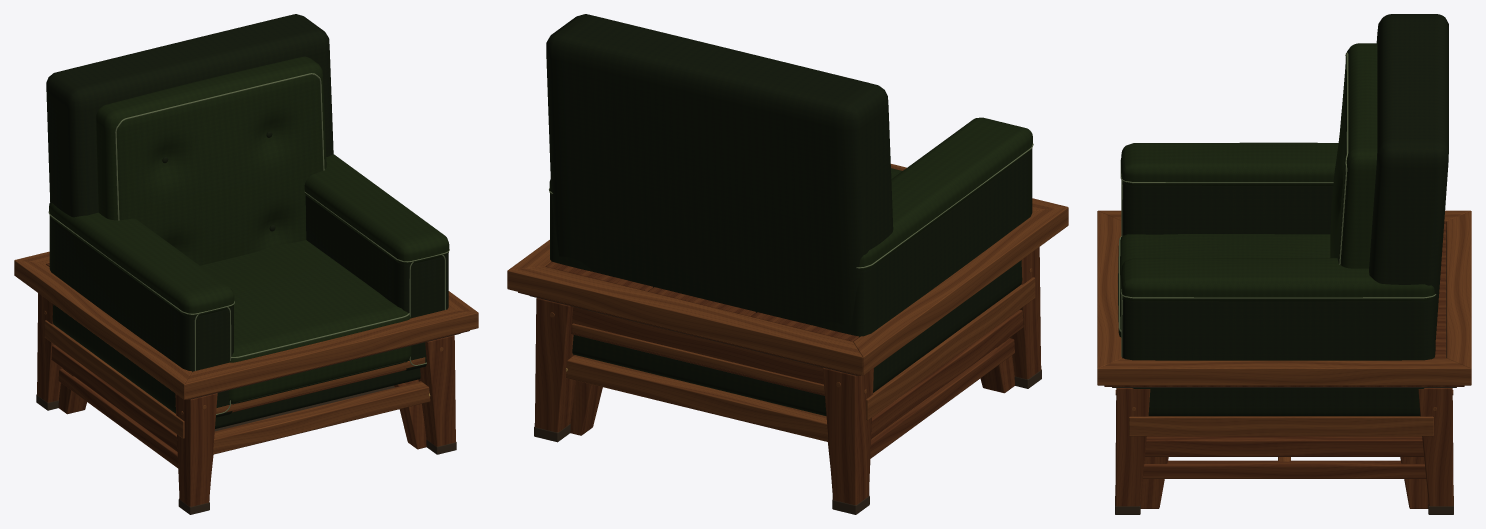
Rendered from mesa-poltrona.glb.
3 views of the same model, side by side, from view 1: azimuth 30°, elevation 25°; view 2: azimuth 150°, elevation 25°; view 3: azimuth 270°, elevation 25° (orthographic). The views are drawn at different scales.
Visible parts, largest first — view 1: Poltrona - marcenaria, Mesa - marcenaria; view 2: Poltrona - marcenaria, Mesa - marcenaria; view 3: Poltrona - marcenaria, Mesa - marcenaria.
Boxes of the visible parts, <box> form: Poltrona - marcenaria: <box>44,14,449,473</box>; Mesa - marcenaria: <box>14,251,478,514</box>; Poltrona - marcenaria: <box>546,14,1035,467</box>; Mesa - marcenaria: <box>507,164,1068,514</box>; Poltrona - marcenaria: <box>1118,14,1448,508</box>; Mesa - marcenaria: <box>1097,210,1471,514</box>.
Bounding box in the file's own units: 1.02 × 1.1 × 1.02.
Materials: 11 (6 with a texture image).
